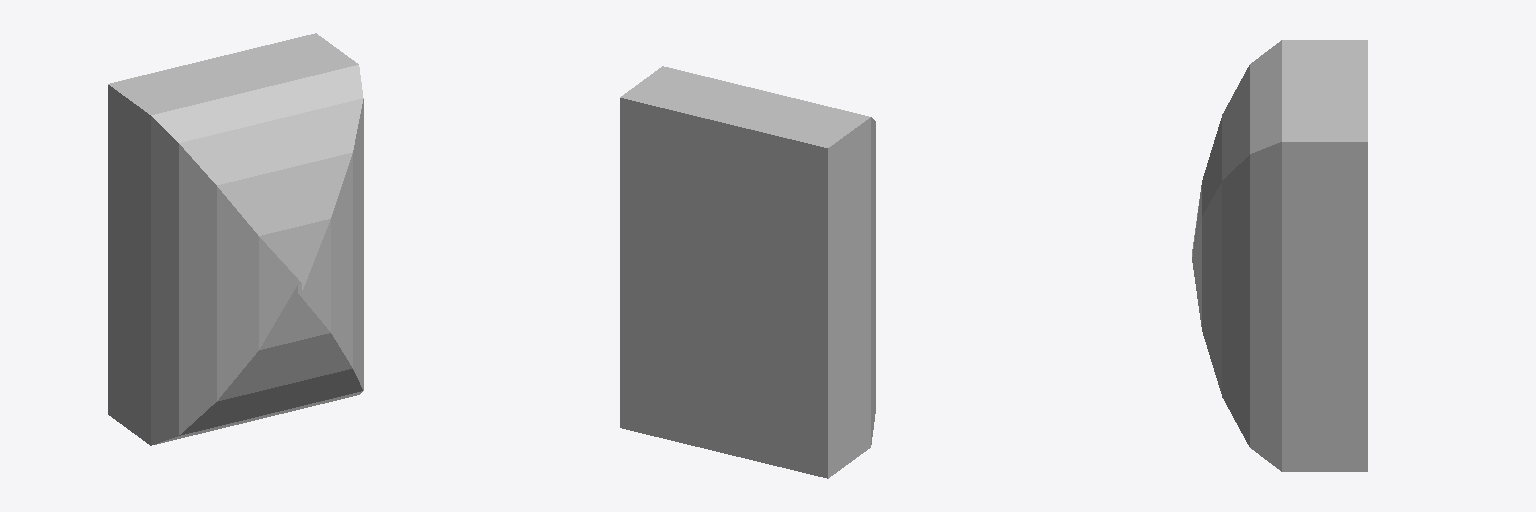
File: hut.obj
The picture shows the model from 3 angles: view 1: azimuth 30°, elevation 25°; view 2: azimuth 150°, elevation 25°; view 3: azimuth 270°, elevation 25°; orthographic projection.
Visible parts, largest first — view 1: Cube; view 2: Cube; view 3: Cube.
Part boxes in pixels (x1,y1,x2,y2): Cube: (108,33,363,445); Cube: (620,66,875,478); Cube: (1192,40,1367,471).
Size of the model in its own units: 1.43 by 2.16 by 1.04.